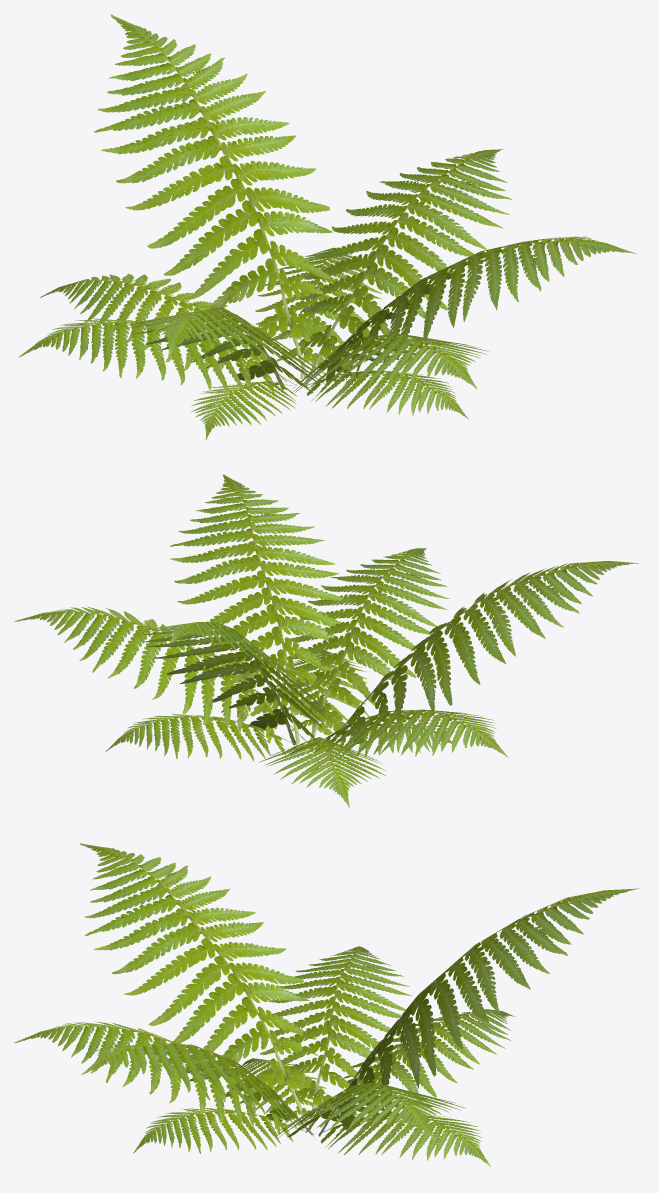
Rendered from fern.glb.
3 renders of one model, top to bottom at view 1: azimuth 30°, elevation 25°; view 2: azimuth 150°, elevation 25°; view 3: azimuth 270°, elevation 25°, orthographic. The views are drawn at different scales.
Visible parts, largest first — view 1: Tree_0; view 2: Tree_0; view 3: Tree_0.
Boxes of the visible parts, box(x1,y1,x2,y2) form: Tree_0: box(18, 14, 636, 440); Tree_0: box(14, 474, 638, 807); Tree_0: box(14, 843, 640, 1166).
Size of the model in its own units: 2.17 by 0.9346 by 2.26.
Materials: 1 (1 with a texture image).
